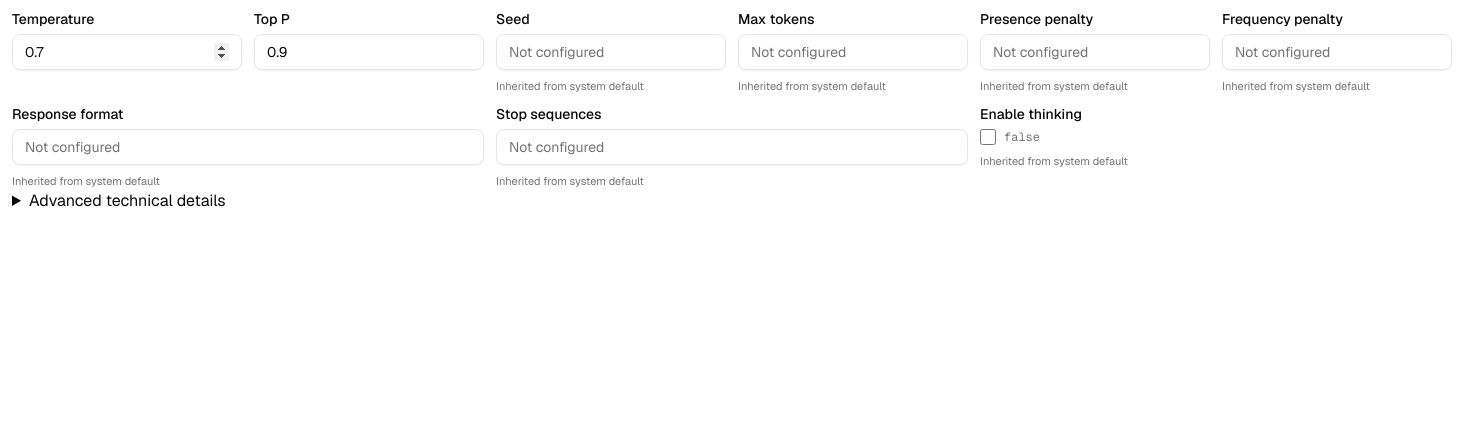
Scenario: provider-aware model parameters UI › hides unsupported parameters until advanced technical details is open
Click the heading "Advanced technical details" at (127, 200), box x1=29 y1=190 x2=226 y2=211
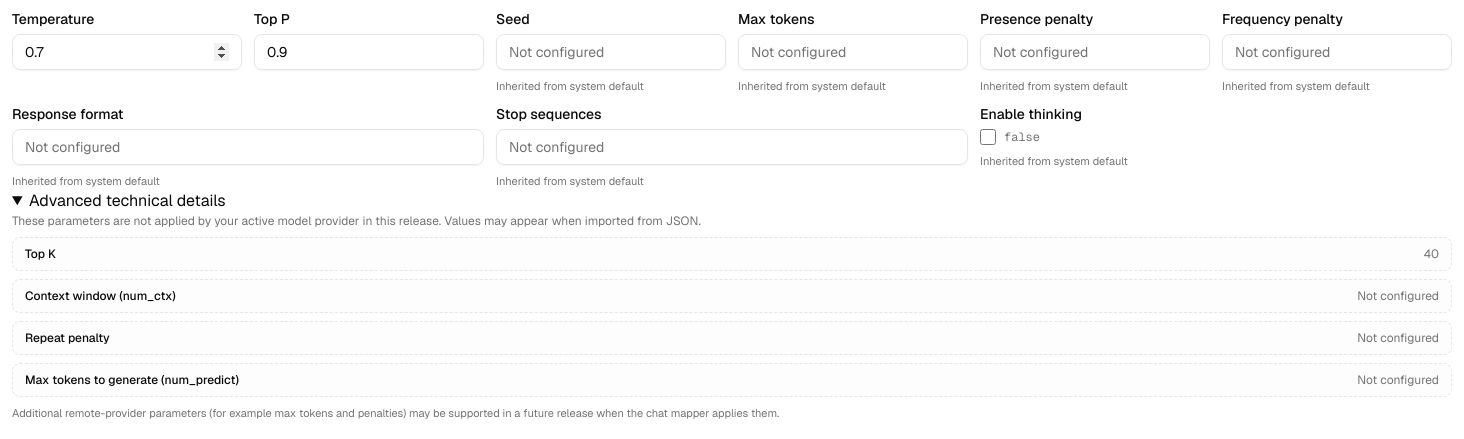
Expected: the element with test id "provider-unsupported-model-parameters" is shown, x1=12 y1=213 x2=1452 y2=423
Expected: the list item with test id "model-param-unsupported-top_k" is shown, x1=12 y1=237 x2=1452 y2=271
